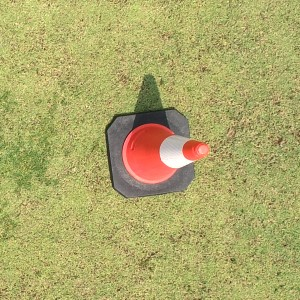traffic cone: (105, 108, 209, 200)
